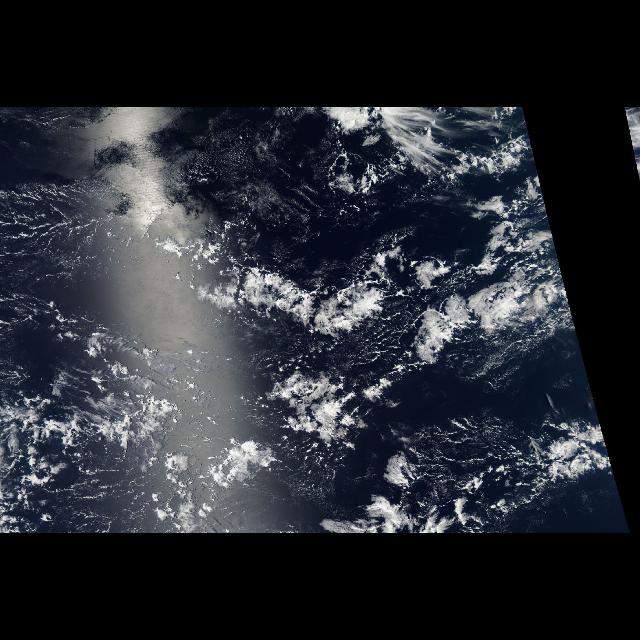Fish: (167, 223, 545, 351), (369, 406, 611, 526)
Gravel: (7, 333, 223, 525)
